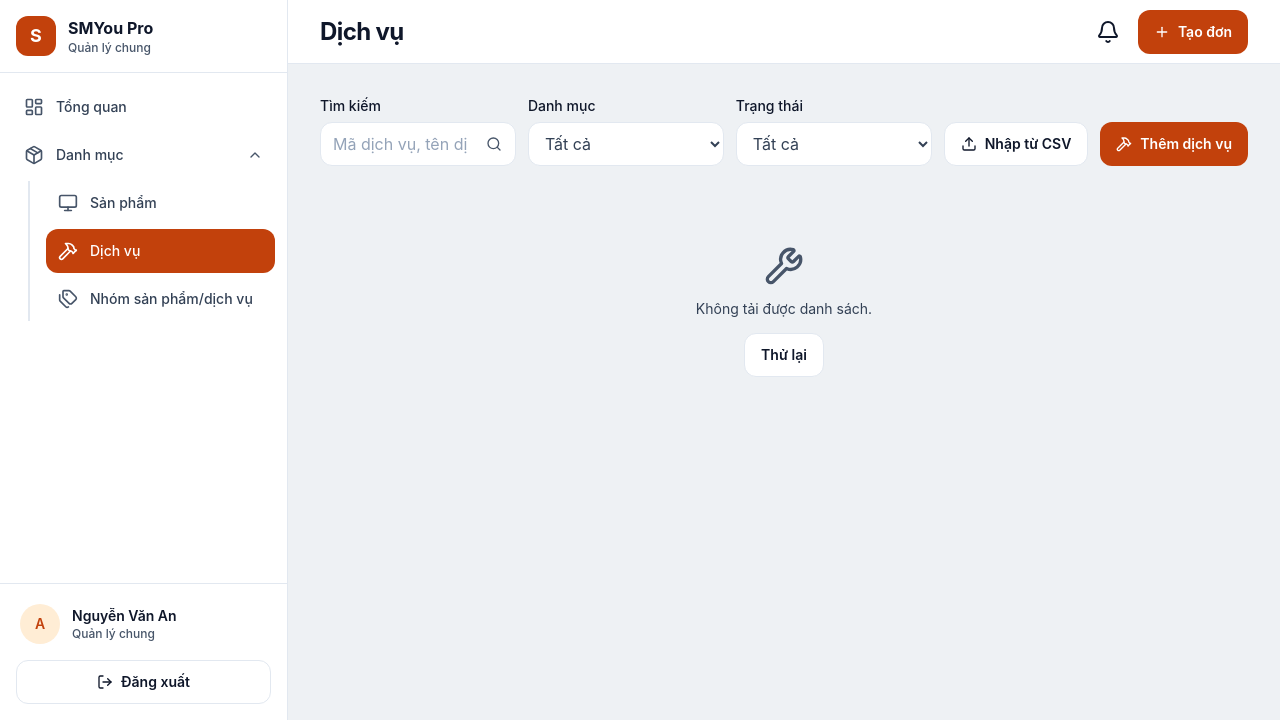
Test: AC-CAT-027 danh sách dịch vụ › trạng thái tải, trống, lỗi + Thử lại
This screenshot has width=1280, height=720.
Expected: the text "Không tải được danh sách." is shown, [696, 298, 872, 321]
Click the button "Thử lại" at (784, 355), box [744, 333, 824, 377]
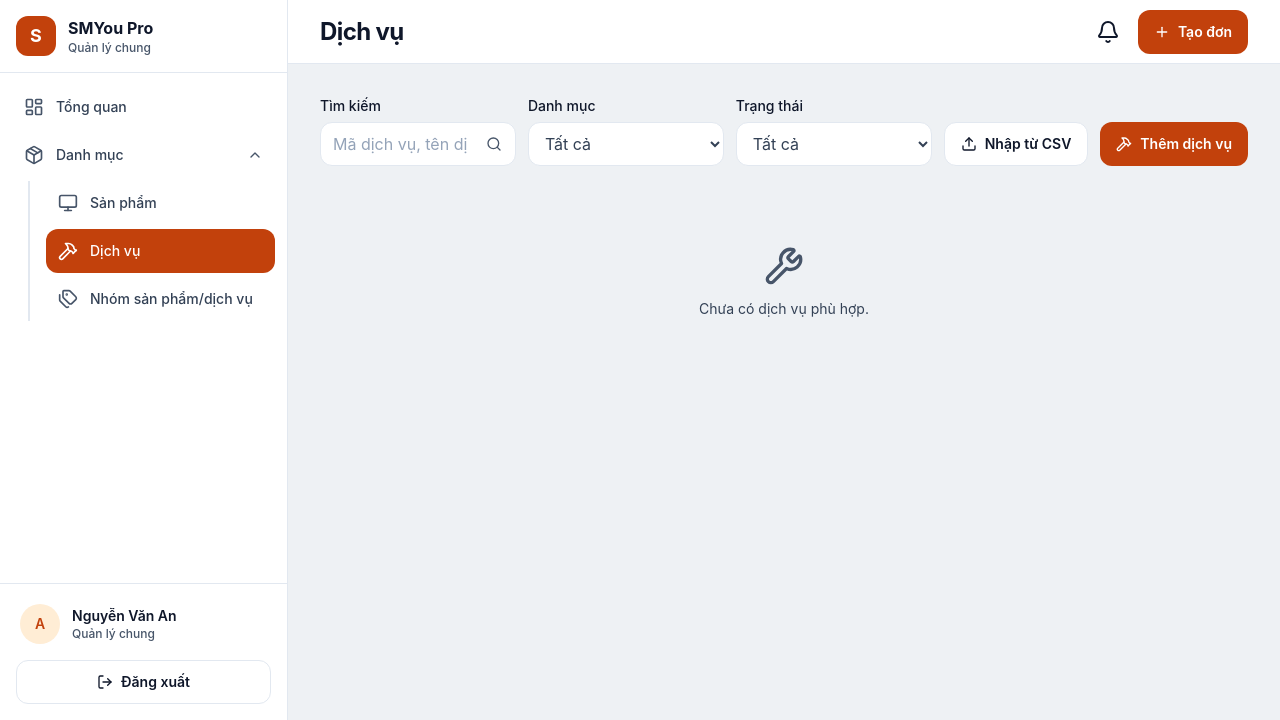
Now the text "Chưa có dịch vụ phù hợp." is shown, box [699, 298, 869, 321]
